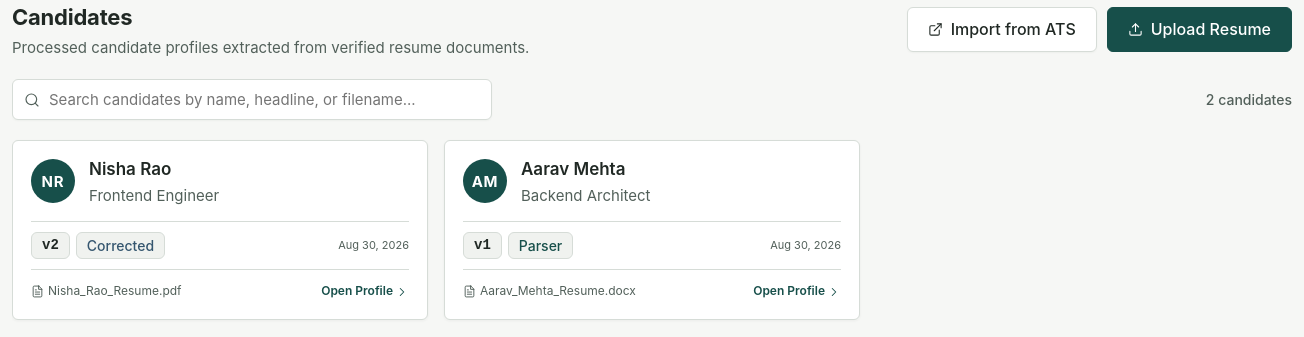
Test: CandidatesDirectory Component › filters candidate list by search input
The width and height of the screenshot is (1304, 337).
Type "Nisha" into the field with placeholder "Search candidates by name, headline, or filename..." at (252, 100), box [12, 79, 492, 120]
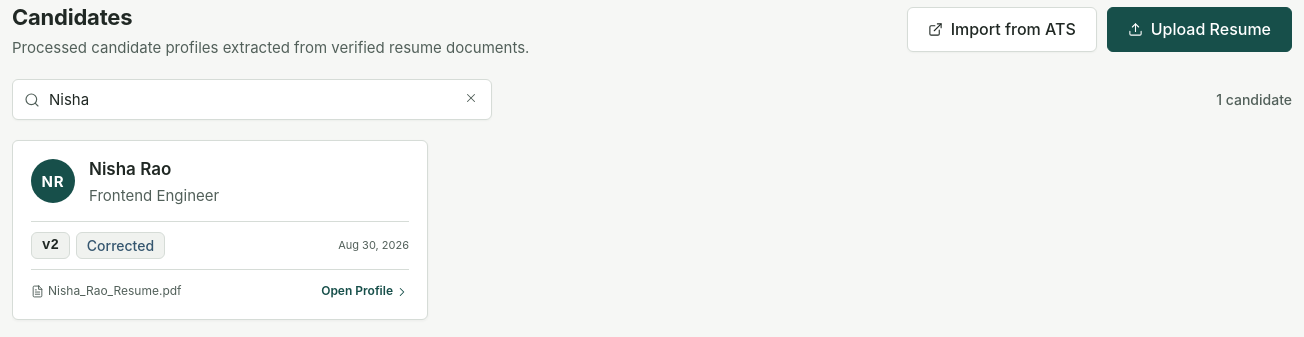
Expected: the heading "Nisha Rao" is shown, [89, 159, 171, 179]
Expected: the button "Aarav Mehta" is gone
